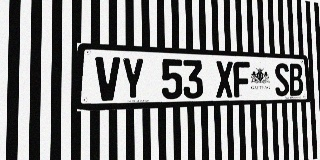3: (183, 59, 203, 99)
5: (162, 59, 183, 99)
B: (289, 63, 303, 96)
F: (233, 61, 251, 97)
S: (274, 63, 290, 96)
V: (95, 56, 120, 101)
X: (215, 61, 234, 98)
Y: (121, 57, 145, 100)
